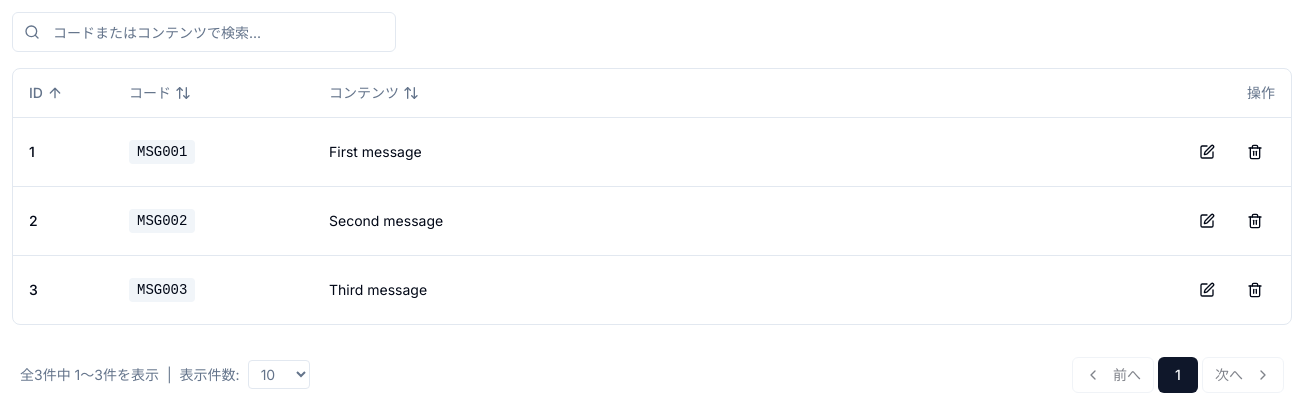
Test case: MessageTable › 検索機能 › 検索結果が0件の場合、メッセージを表示する
In the field with test id "search-input": (204, 32) [12,12,396,52], type "NOTFOUND"
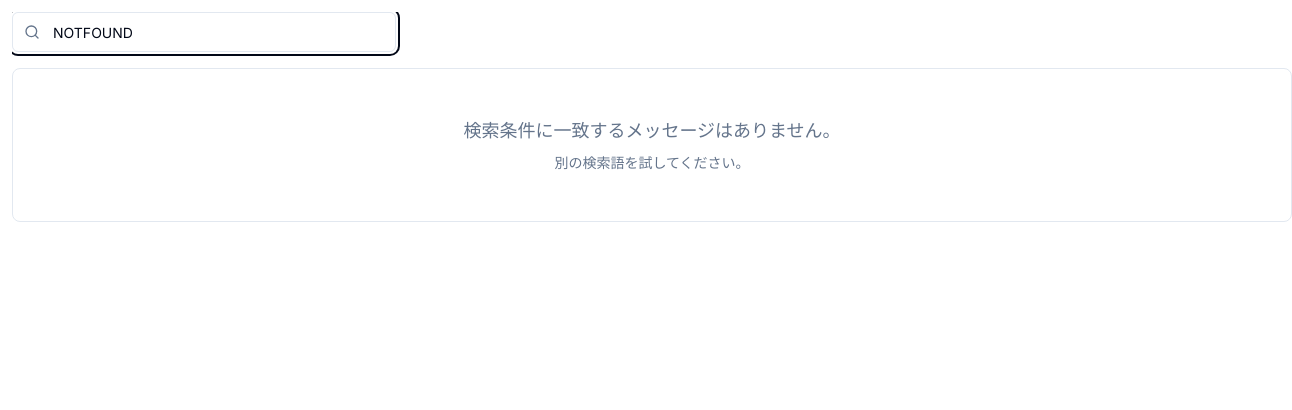
Now the text "検索条件に一致するメッセージはありません。" is shown, box [463,120,840,141]
Now the text "別の検索語を試してください。" is shown, box [554,154,750,171]
